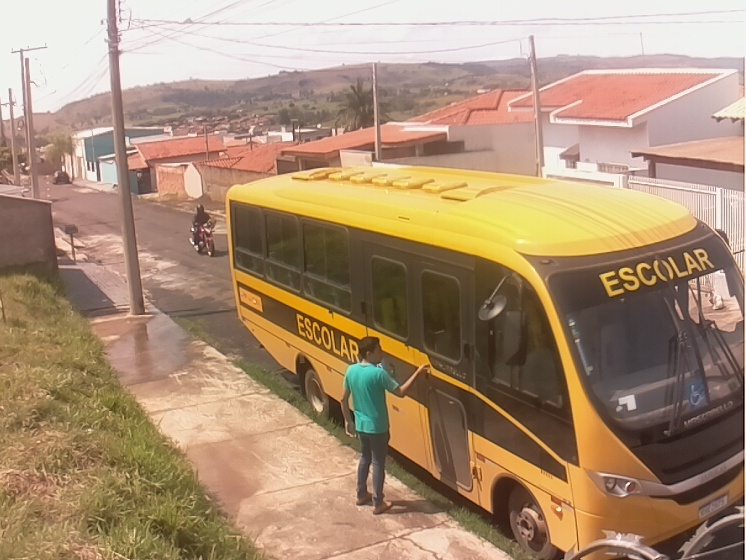person: (339, 334, 432, 515), (190, 203, 208, 240)
